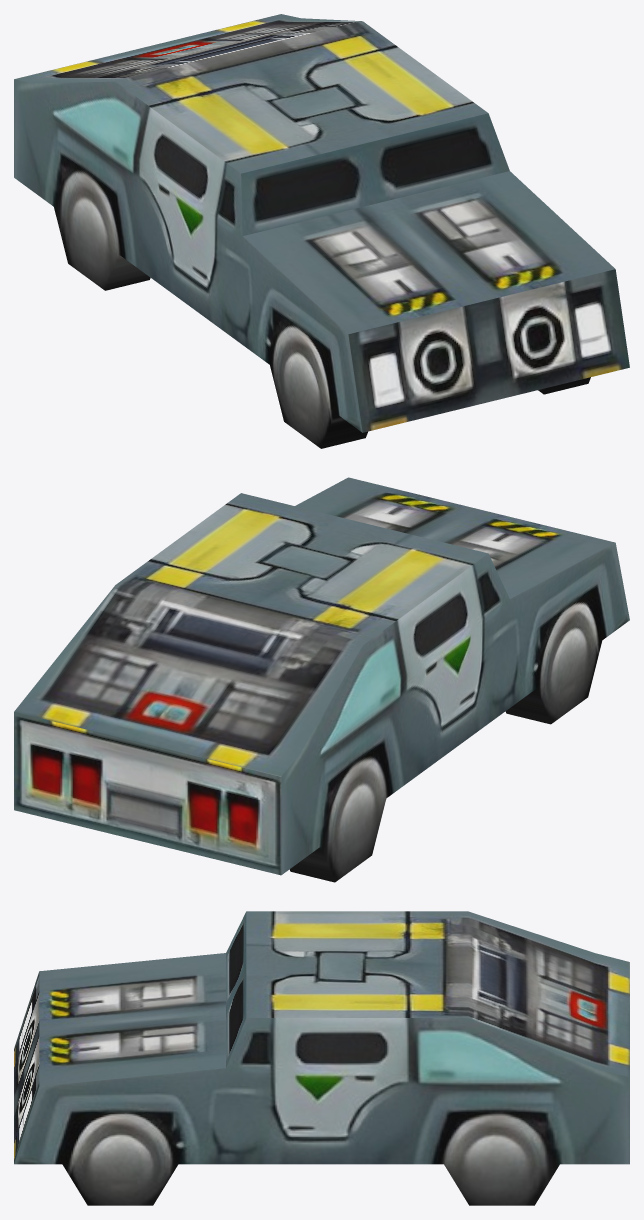
The model's file is armoredcarprop_hdtex.glb.
3 renders of one model, top to bottom at view 1: azimuth 30°, elevation 25°; view 2: azimuth 150°, elevation 25°; view 3: azimuth 270°, elevation 25°, orthographic. The views are drawn at different scales.
Parts seen in each view (by area): view 1: Hummer; view 2: Hummer; view 3: Hummer.
Part boxes in pixels (bbox=[...]): Hummer: bbox=[14, 14, 629, 448]; Hummer: bbox=[14, 477, 629, 882]; Hummer: bbox=[14, 911, 629, 1205].
Size of the model in its own units: 2.19 by 1.62 by 4.95.
1 material, 1 textured.
